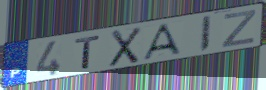4: (34, 39, 62, 78)
A: (141, 22, 184, 62)
I: (198, 14, 213, 54)
T: (74, 33, 103, 70)
X: (108, 25, 144, 69)
Z: (220, 8, 258, 49)
